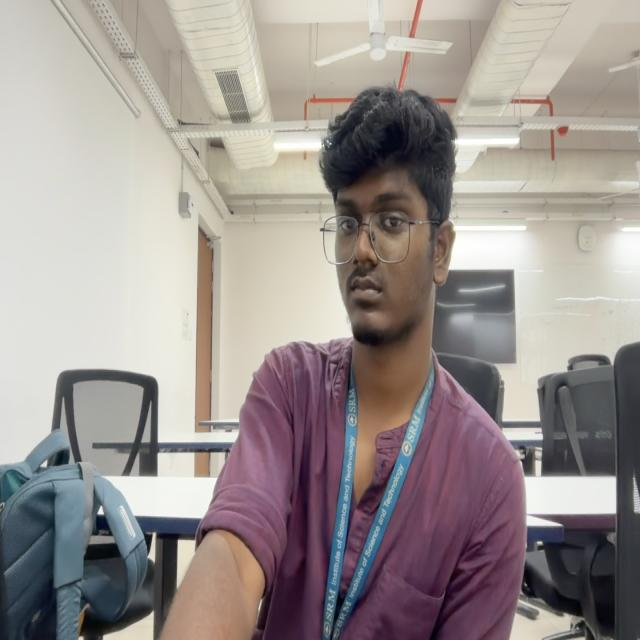ravindra: (318, 86, 456, 347)
